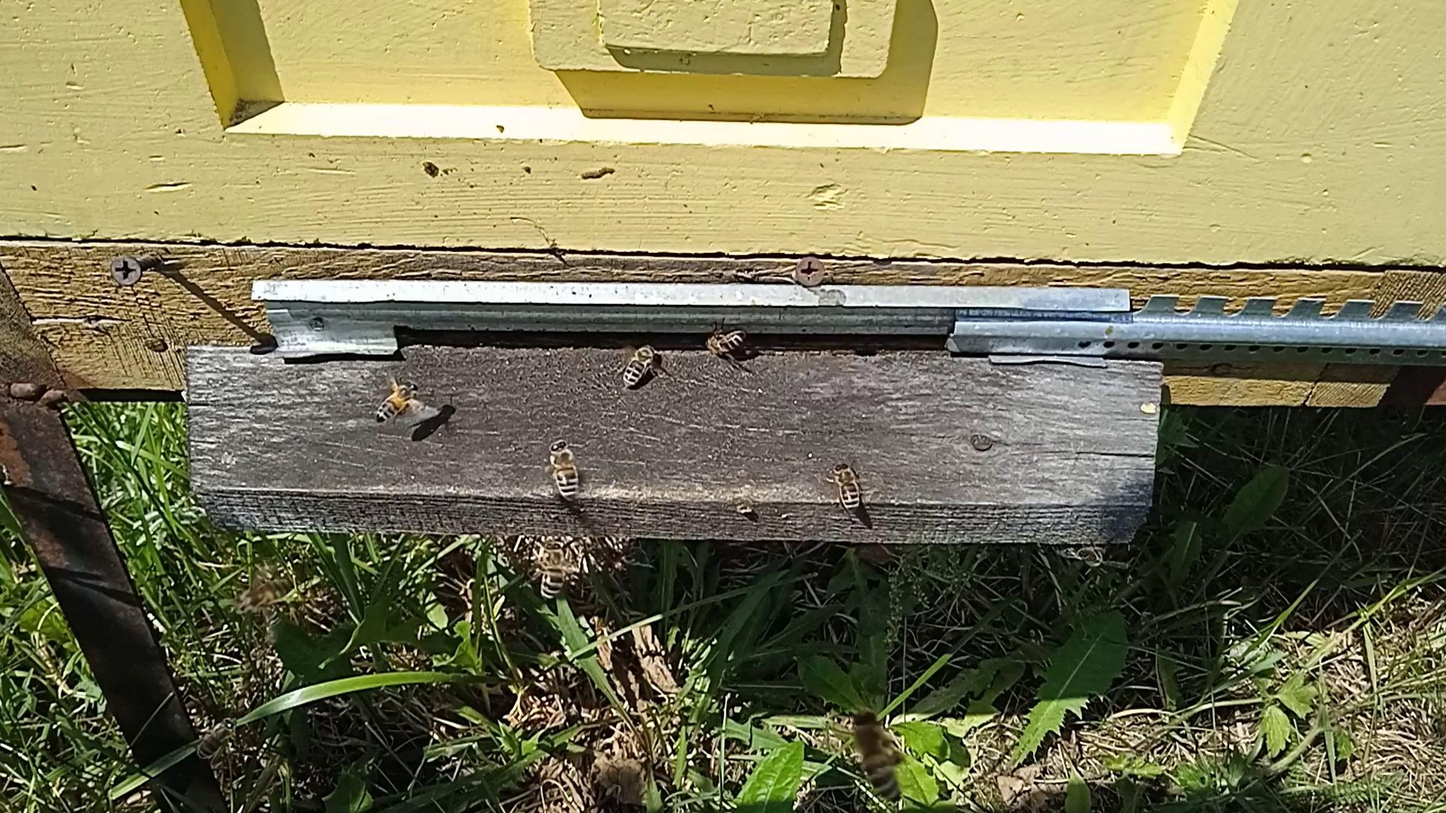worker-bee: (851, 708, 907, 807), (538, 537, 571, 601), (547, 439, 581, 500), (236, 579, 298, 611), (375, 378, 419, 422), (196, 717, 239, 761), (621, 342, 660, 388), (831, 461, 862, 512), (703, 324, 750, 355), (1065, 545, 1111, 571)
